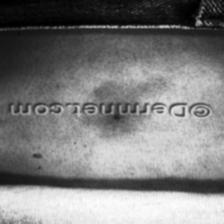Toxin: (86, 86, 146, 104), (81, 115, 145, 131)
